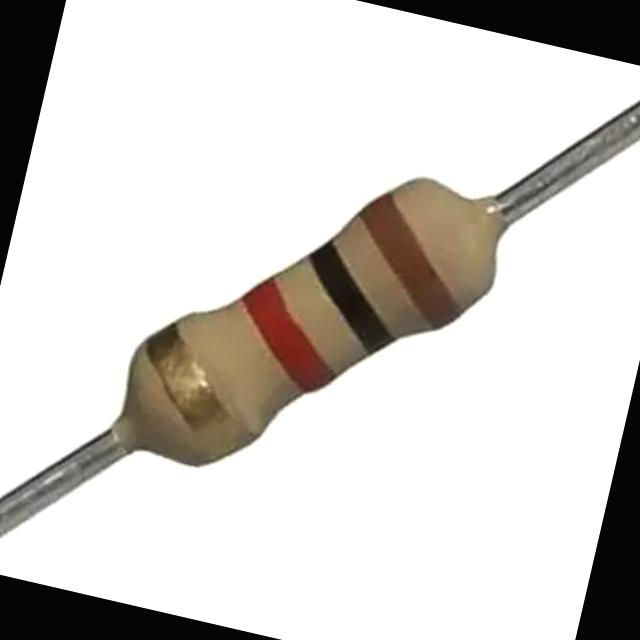black: (304, 240, 392, 360)
brown: (356, 190, 464, 333)
gold: (137, 322, 258, 467)
red: (238, 278, 338, 398)
resistor: (64, 72, 640, 533)
